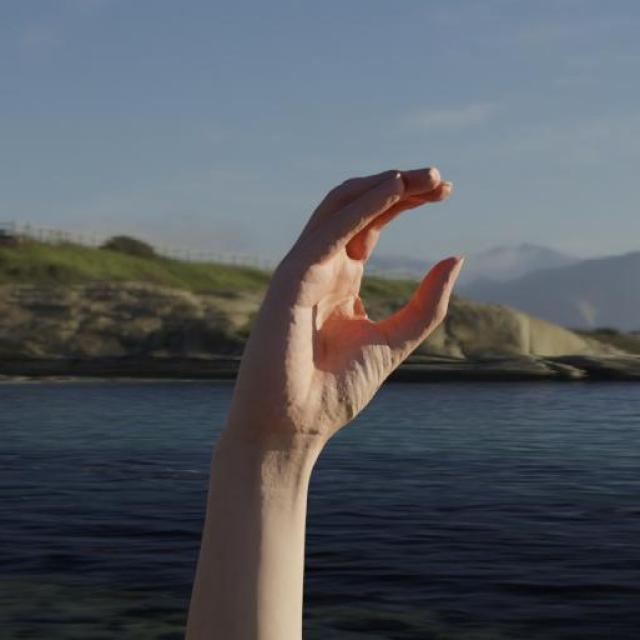C: (226, 162, 470, 443)
